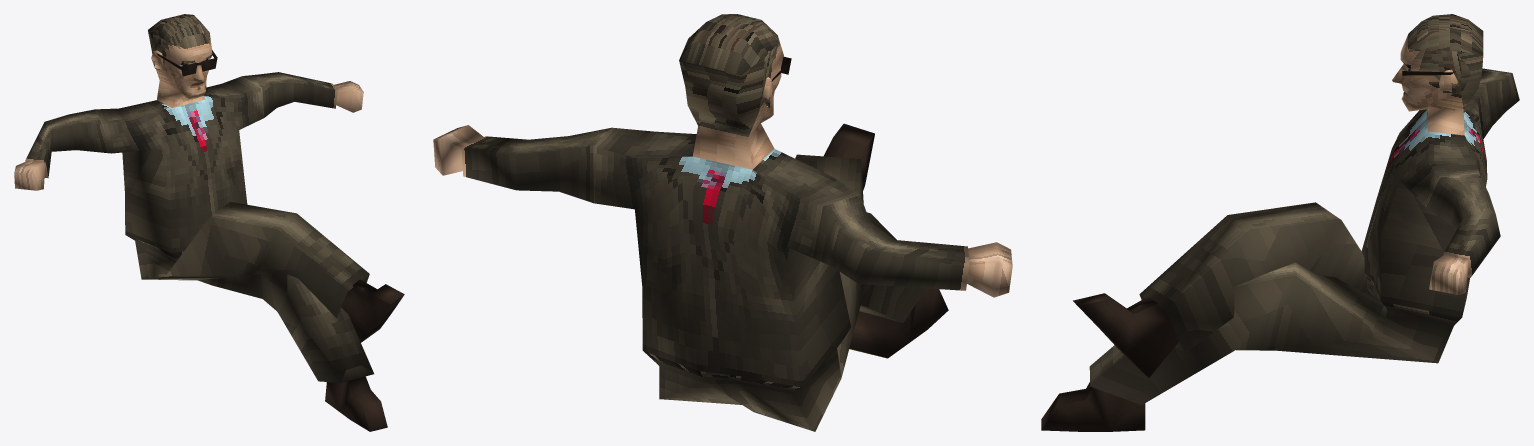
Rendered from elite.FBX.
3 renders of one model, left to right at view 1: azimuth 30°, elevation 25°; view 2: azimuth 150°, elevation 25°; view 3: azimuth 270°, elevation 25°, orthographic. The views are drawn at different scales.
Visible parts, largest first — view 1: elite; view 2: elite; view 3: elite.
Boxes of the visible parts, x1,y1,x2,y2 form: elite: (14, 14, 404, 431); elite: (433, 14, 1012, 431); elite: (1041, 14, 1519, 431).
Size of the model in its own units: 0.0903 by 0.0738 by 0.0844.
2 materials, 2 textured.
